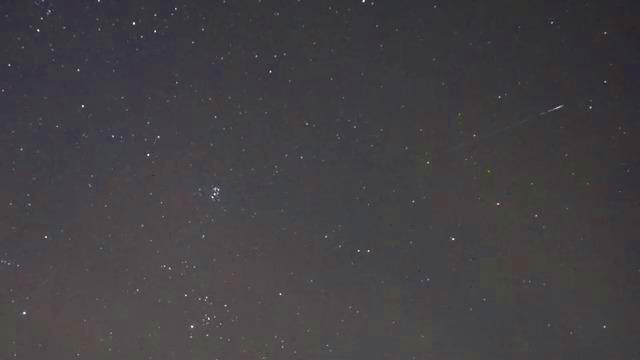meteorite: (477, 96, 571, 136)
